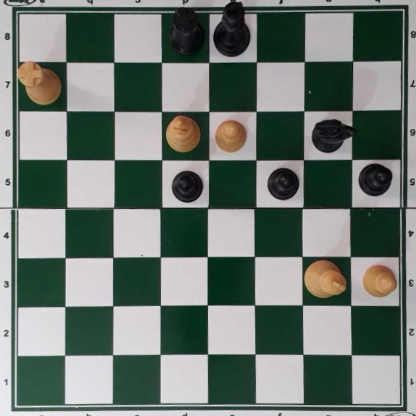black-king: (213, 1, 249, 58)
black-knight: (310, 117, 356, 153)
black-pawn: (170, 170, 205, 204), (357, 161, 391, 195), (266, 164, 298, 200)
black-rook: (166, 5, 204, 55)
white-bishop: (164, 112, 200, 153)
white-king: (303, 258, 345, 297)
white-pawn: (361, 261, 397, 297), (213, 117, 247, 152)
white-rook: (17, 62, 60, 105)
